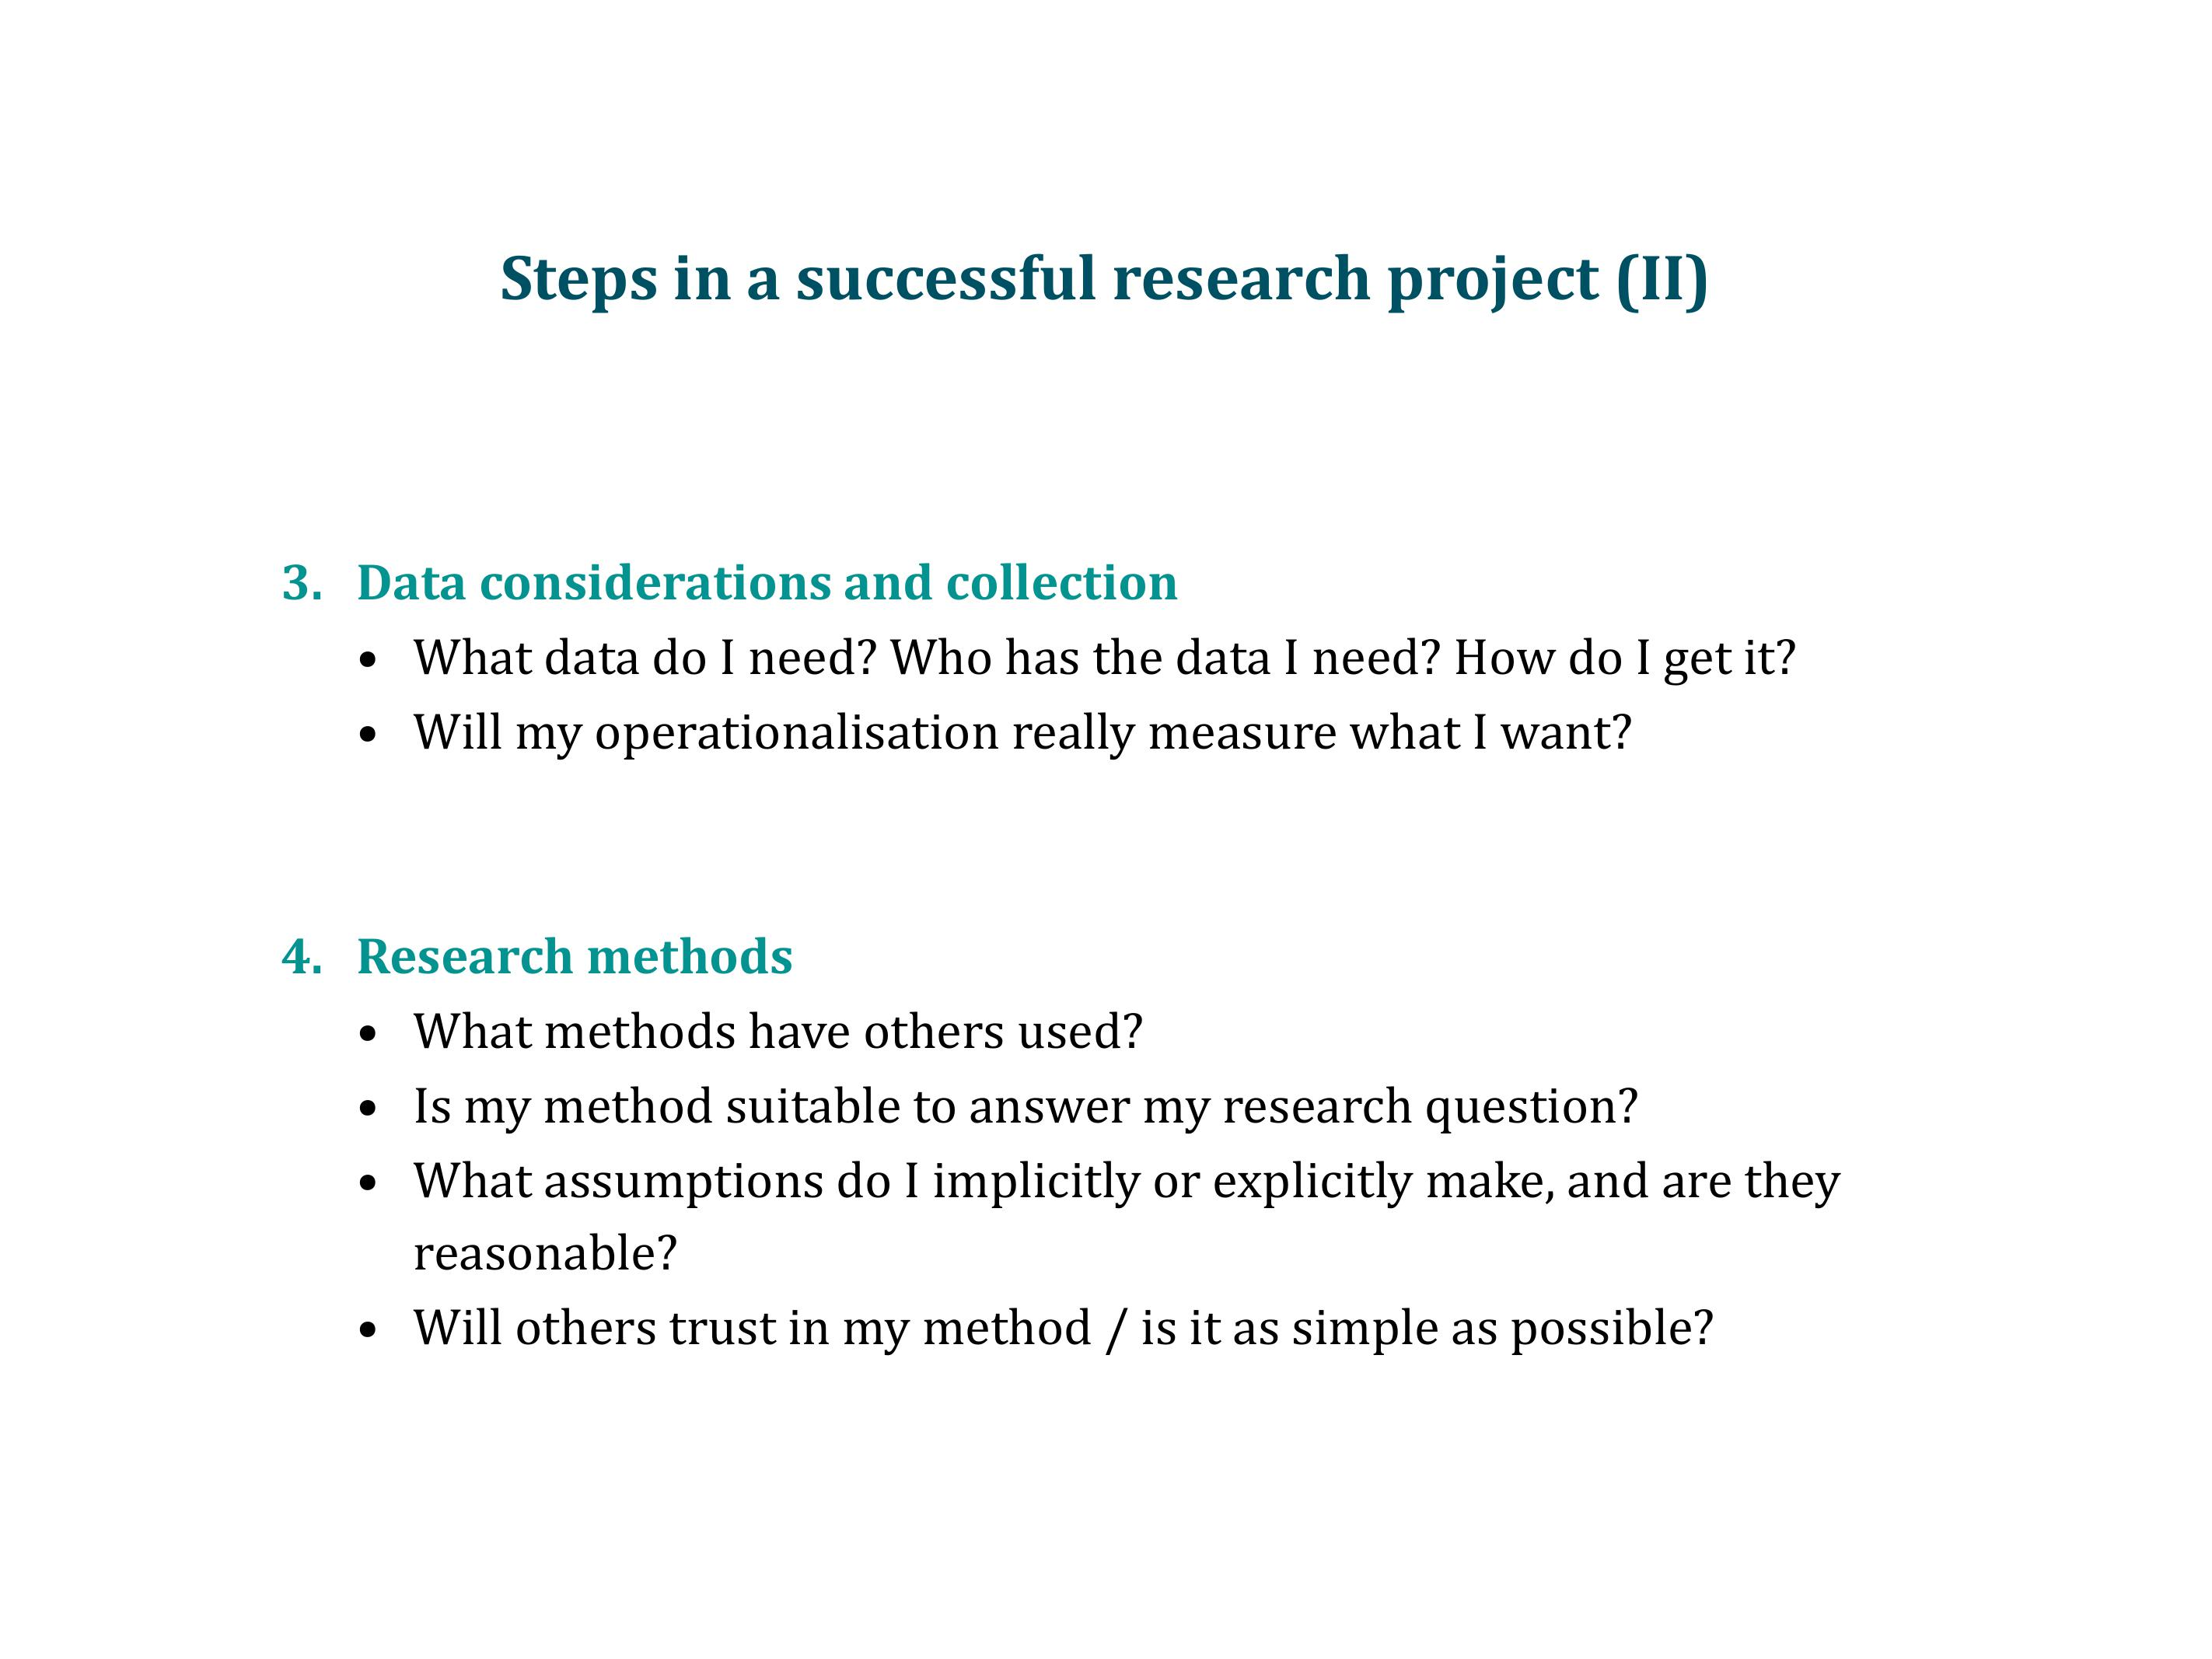Title: (453, 239, 1733, 324)
